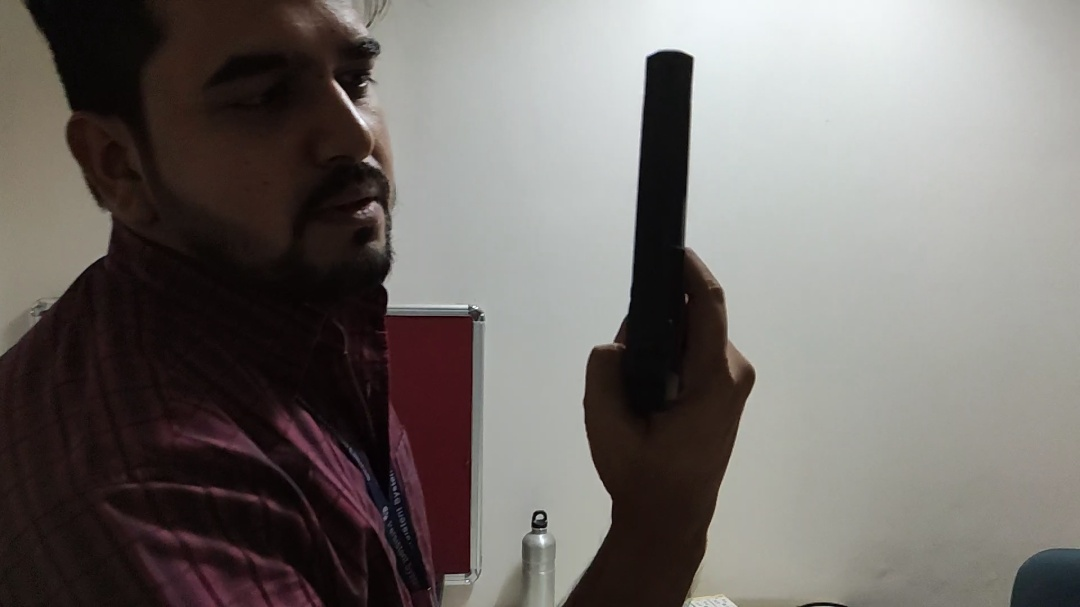gun: (601, 29, 729, 438)
